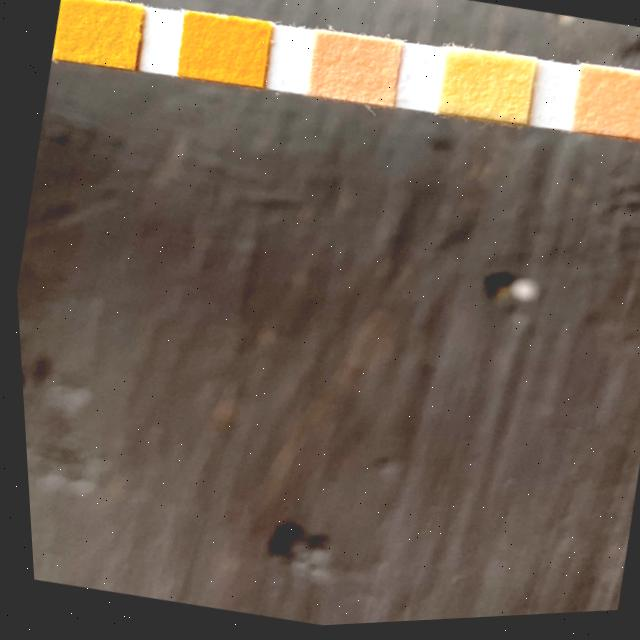Blood: (175, 14, 271, 91)
Protein: (437, 52, 534, 132)
SpGravity: (49, 0, 144, 73)
Urobilinogen: (570, 70, 640, 151)
pH: (306, 31, 403, 111)
